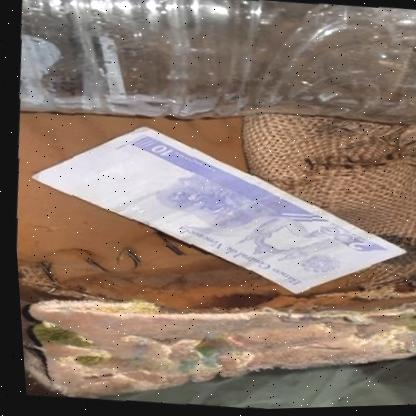ten-back-vef: (13, 108, 416, 312)
